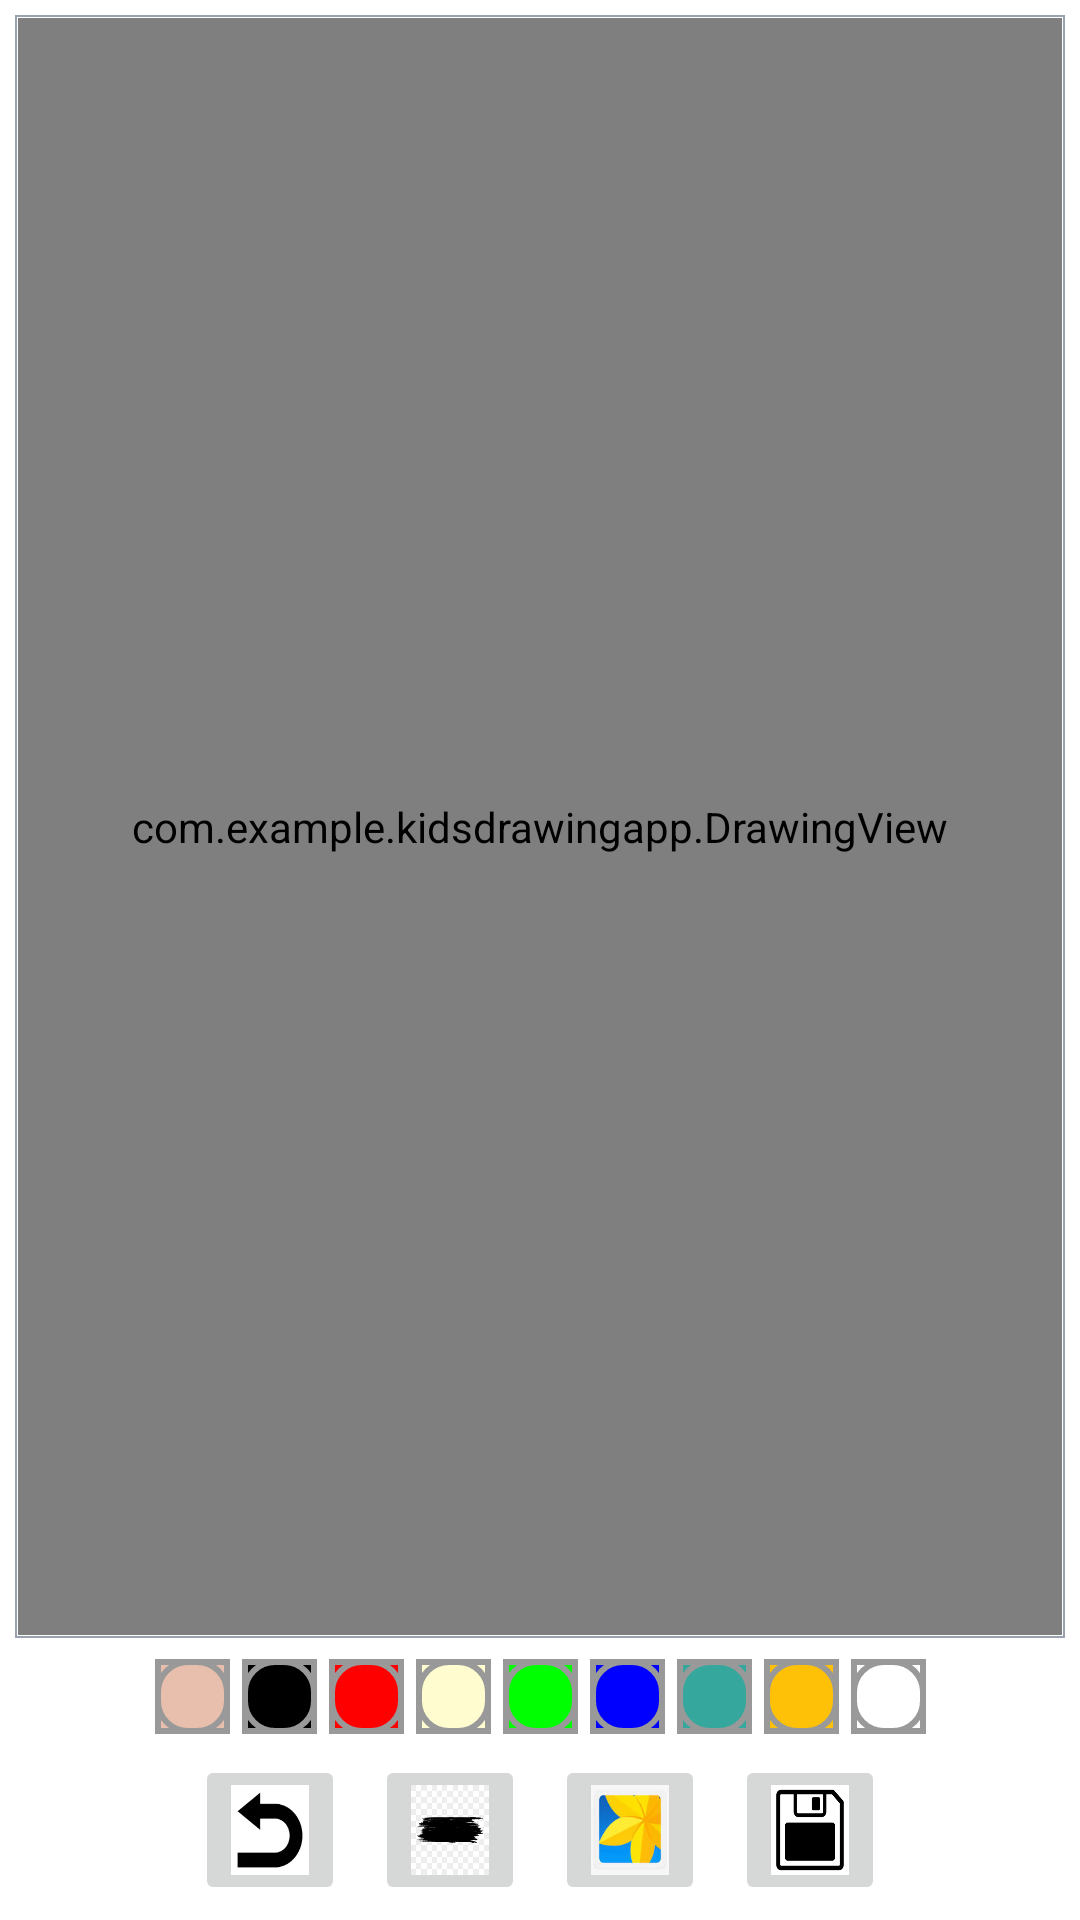

Icon click points for this 1080*1920 phone screenshot, format (x=x, y=y):
brush: (x=450, y=1830)
save: (x=810, y=1830)
undopic: (x=270, y=1830)
